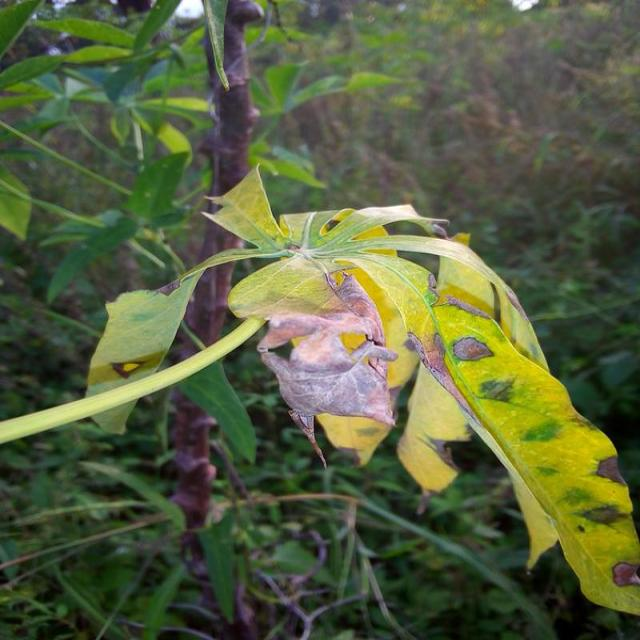cassava leaf: (86, 161, 639, 617)
